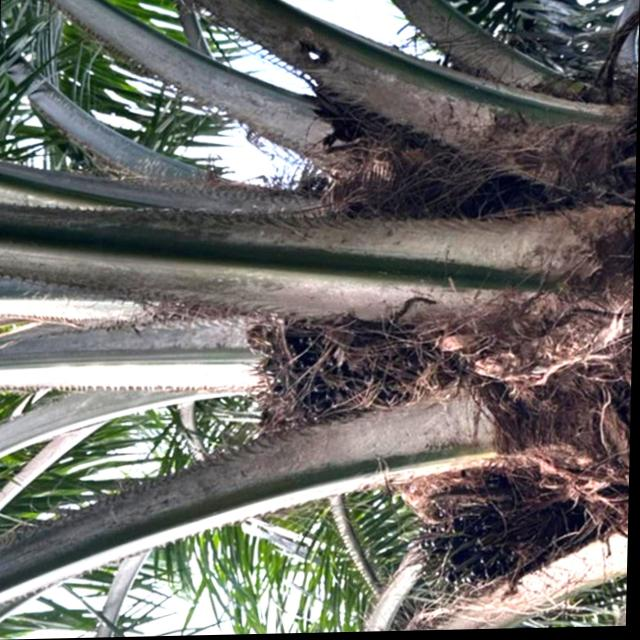unripe: (243, 305, 486, 445), (405, 479, 595, 610)
